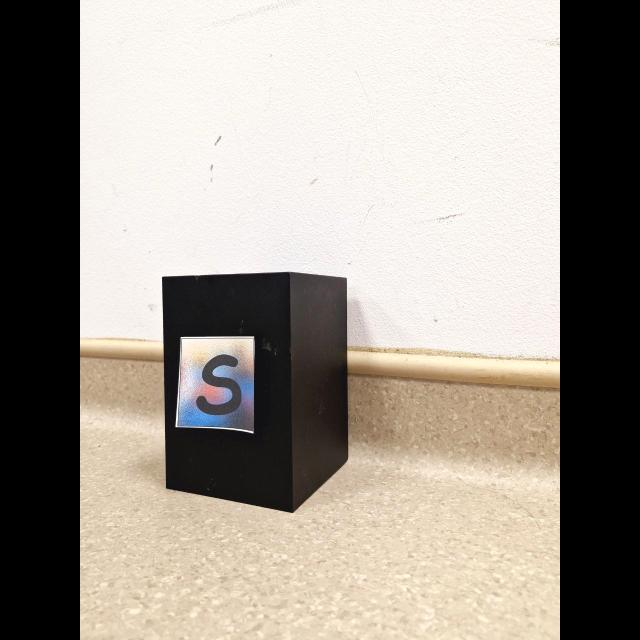S: (197, 354, 242, 415)
